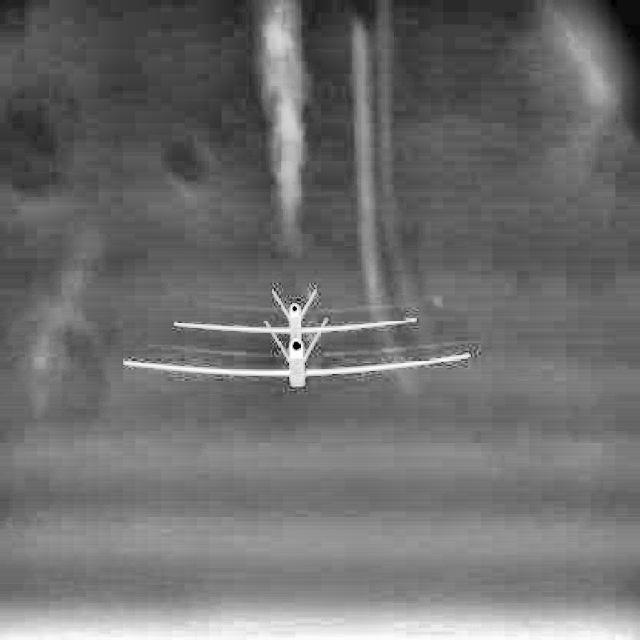RQ4: (124, 319, 470, 386), (175, 290, 416, 341)
